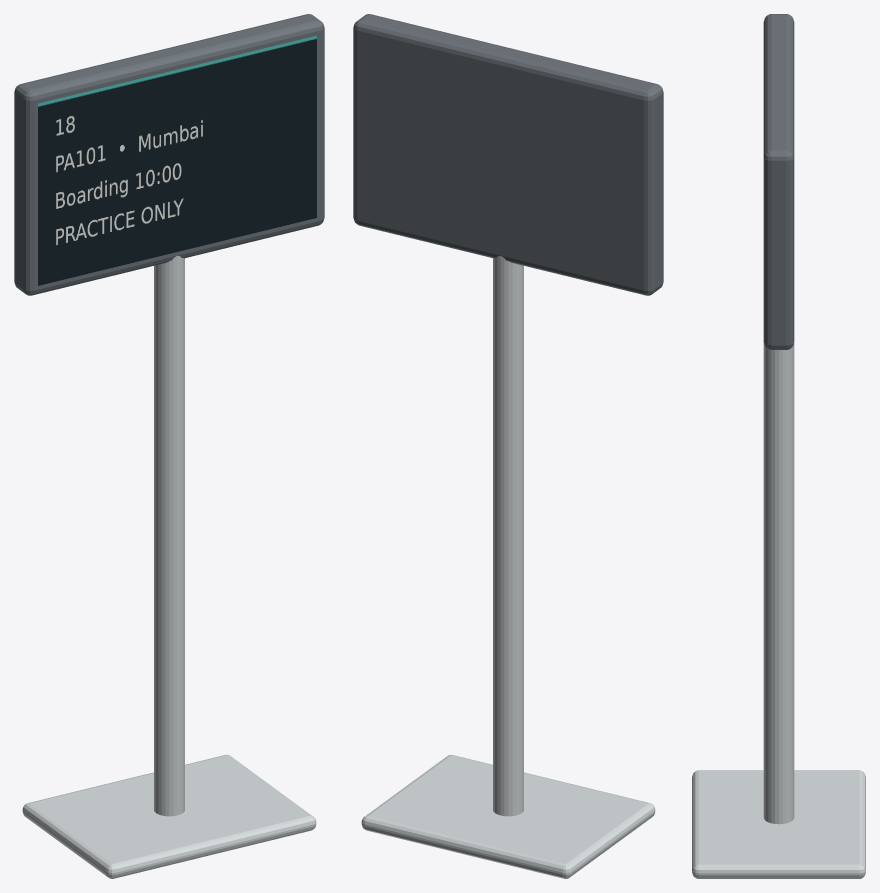
File: gate-display.glb
3 views of the same model, side by side, from view 1: azimuth 30°, elevation 25°; view 2: azimuth 150°, elevation 25°; view 3: azimuth 270°, elevation 25° (orthographic). The views are drawn at different scales.
Parts seen in each view (by area): view 1: EditableScreen, Base, DisplayPost, DisplayHousing; view 2: DisplayHousing, Base, DisplayPost; view 3: Base, DisplayPost, DisplayHousing.
Part boxes in pixels (x1,y1,x2,y2): EditableScreen: [38, 35, 316, 285]; Base: [22, 754, 316, 878]; DisplayPost: [154, 256, 184, 816]; DisplayHousing: [14, 14, 324, 295]; DisplayHousing: [353, 14, 663, 295]; Base: [361, 754, 655, 878]; DisplayPost: [493, 256, 523, 816]; Base: [692, 770, 865, 878]; DisplayPost: [763, 342, 794, 824]; DisplayHousing: [763, 14, 794, 349].
Size of the model in its own units: 0.775 by 1.9 by 0.4.
3 materials, 1 textured.
